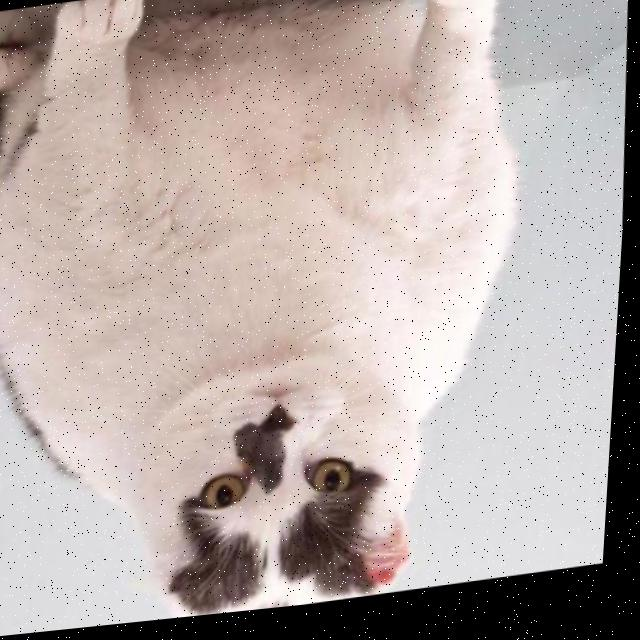Cats: (0, 0, 548, 627)
